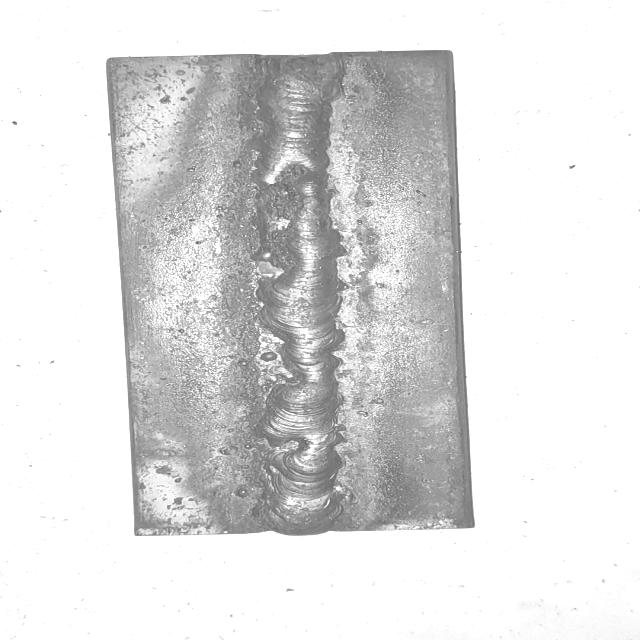Bad Weld: (258, 58, 341, 530)
Defect: (237, 160, 313, 293), (240, 319, 316, 419), (235, 430, 310, 485)
